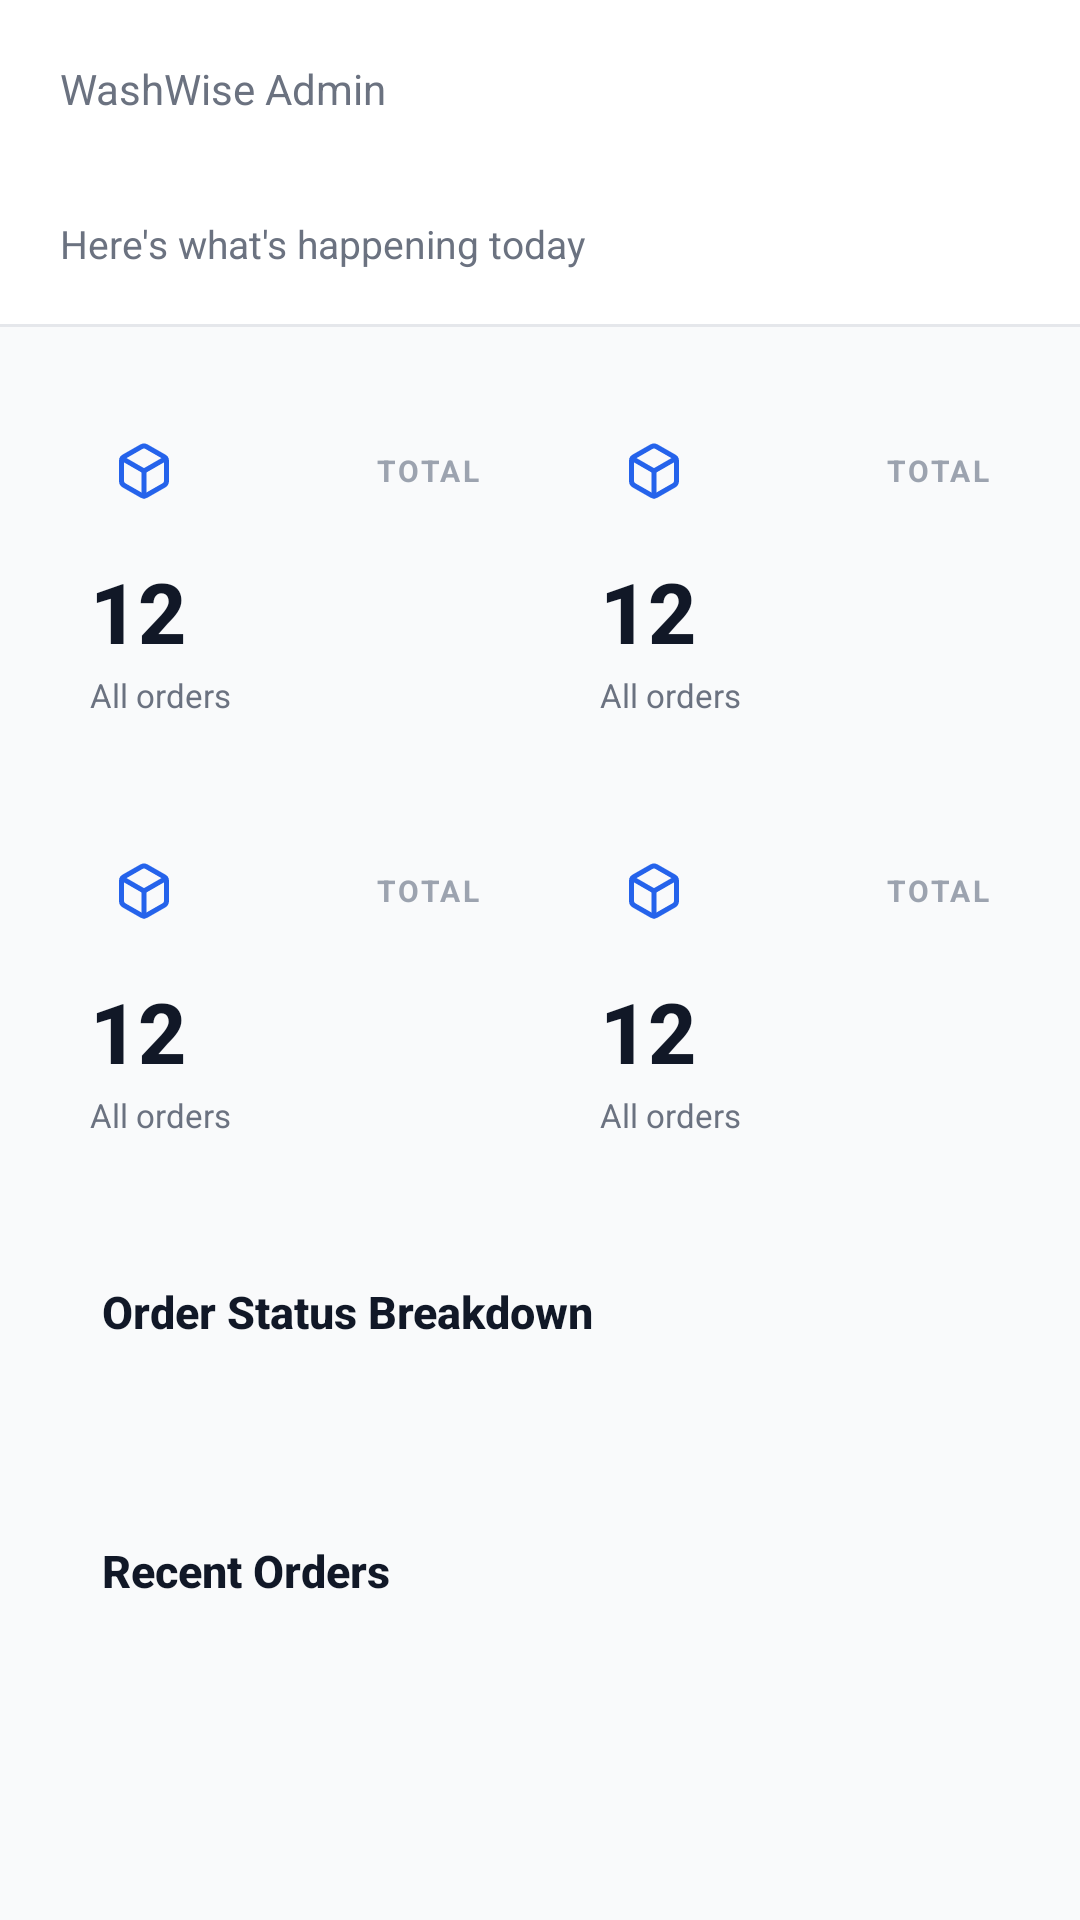

Named icons in this screenshot (1080px x 1920px) and their centers, point (x, y):
box: point (144, 471), point (654, 471), point (144, 891), point (654, 891)
